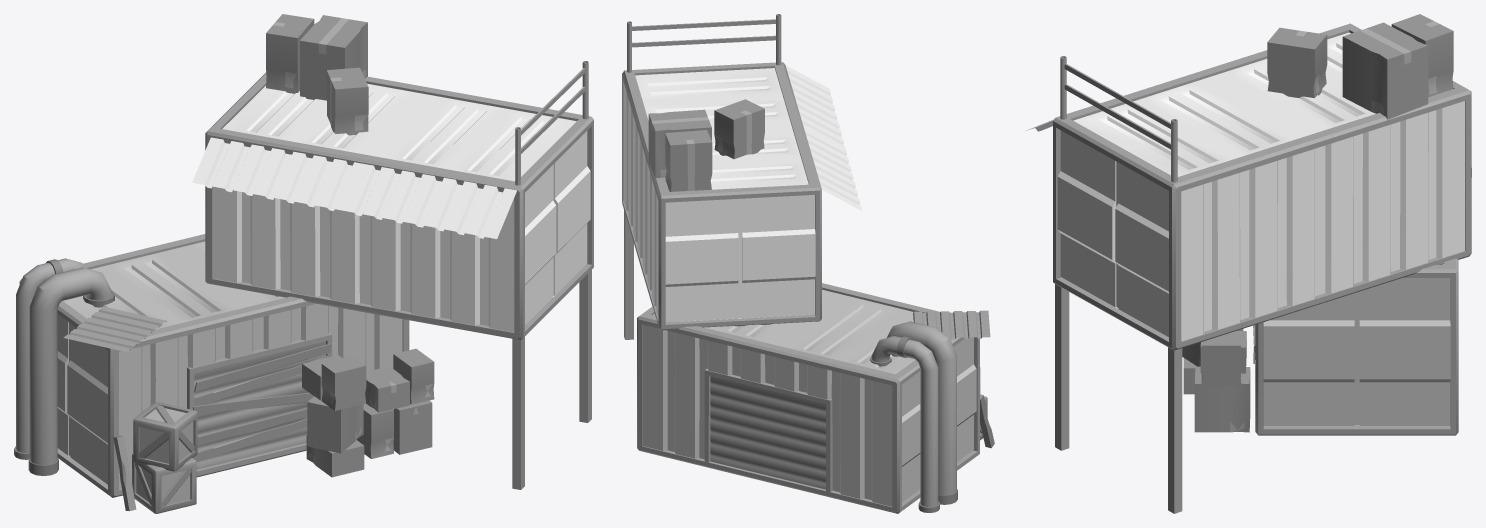
Rendered from corsair_barracks.glb.
3 renders of one model, left to right at view 1: azimuth 30°, elevation 25°; view 2: azimuth 150°, elevation 25°; view 3: azimuth 270°, elevation 25°, orthographic. The views are drawn at different scales.
Parts seen in each view (by area): view 1: Body; view 2: Body; view 3: Body.
Part boxes in pixels (x1,y1,x2,y2): Body: (14,14,593,513); Body: (622,14,994,513); Body: (1026,14,1471,513).
Bounding box in the file's own units: 14 × 10.3 × 10.55.
Materials: 2 (1 with a texture image).
